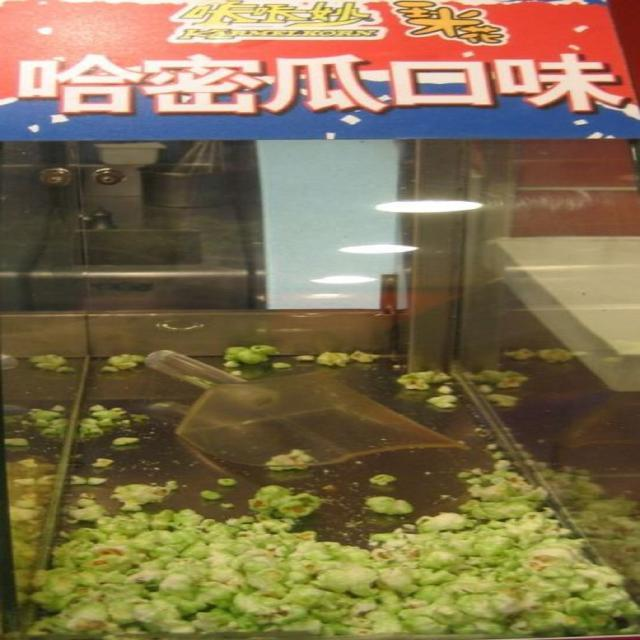Popcorn: (47, 344, 639, 632)
